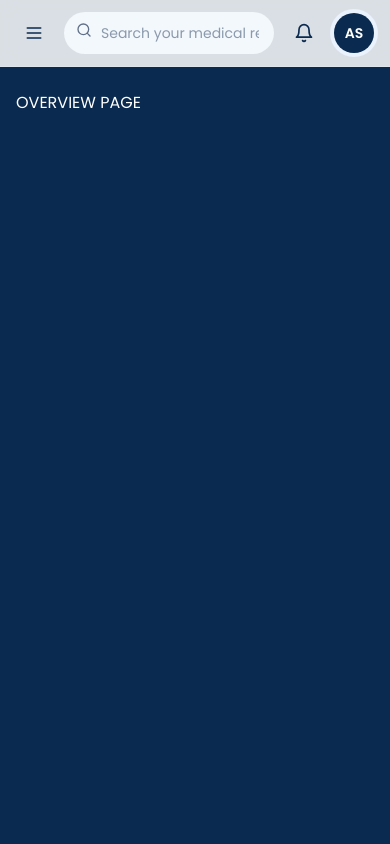
it: navigation and mobile menu › renders every sidebar section and opens the mobile menu
Later steps or results of the test are not shown.
Check: the text "OVERVIEW PAGE" is shown, box [16,91,141,114]
Click the button named "Open menu": (34, 33) [16,15,52,51]
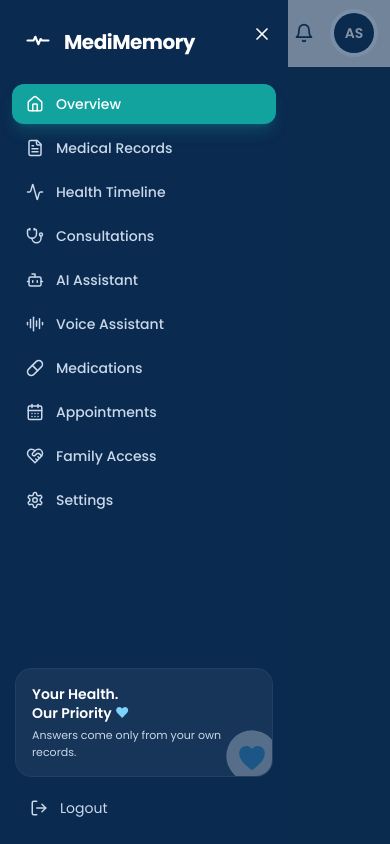
Check: the dialog named "Navigation menu" is shown
